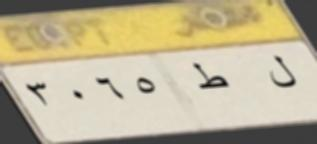0: (69, 84, 86, 109)
3: (25, 77, 53, 108)
5: (131, 74, 160, 101)
6: (94, 72, 125, 105)
Taa: (188, 59, 233, 94)
laam: (262, 48, 299, 93)
